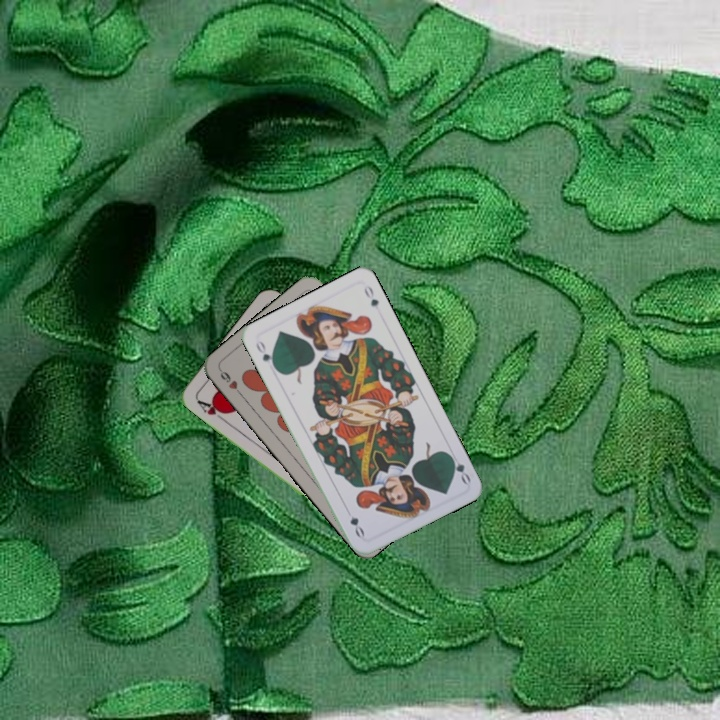GO: (444, 450, 473, 487), (252, 337, 279, 372)
H9: (216, 365, 246, 399)
HA: (193, 395, 230, 424)
